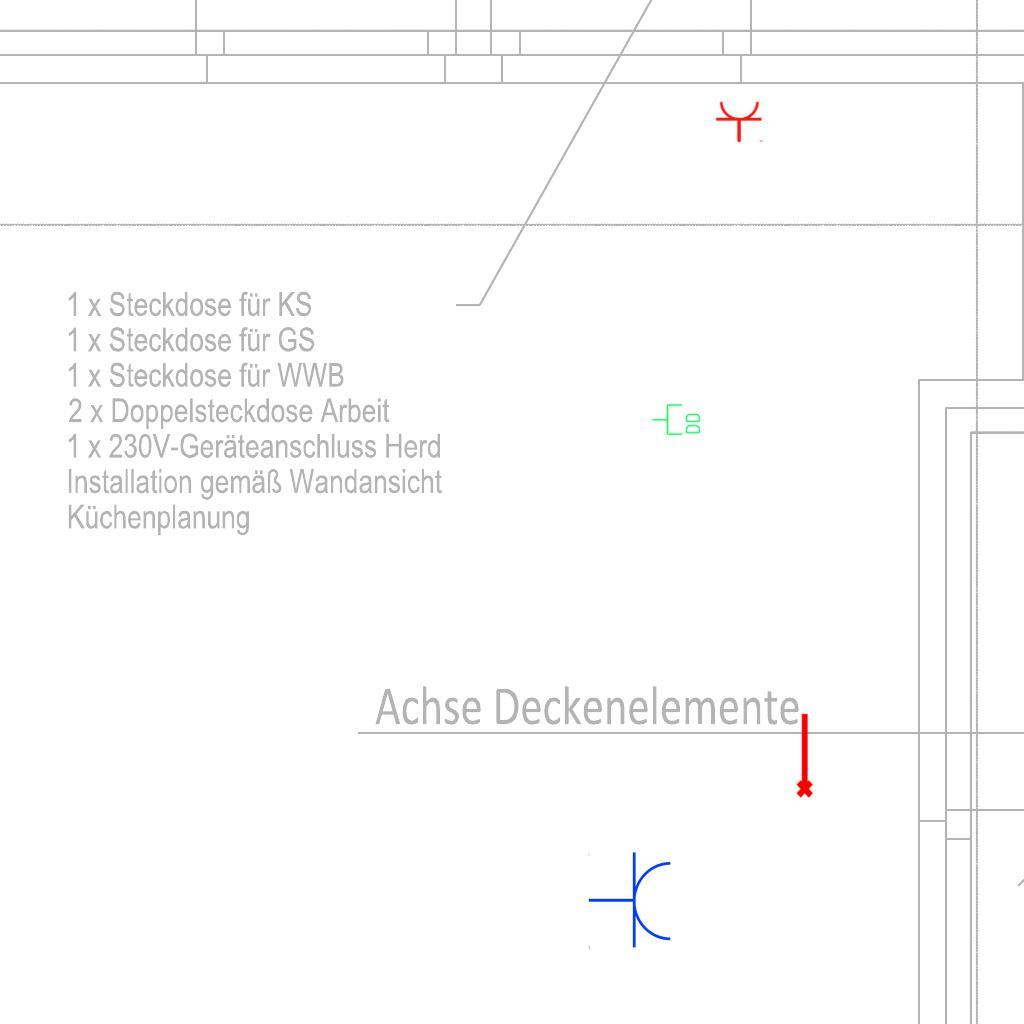ASR_Ansaugoeffnung: (792, 711, 815, 799)
Datenanschluss_zweifach: (651, 403, 702, 437)
Schukosteckdose_einfach: (588, 851, 675, 951), (715, 100, 765, 143)
